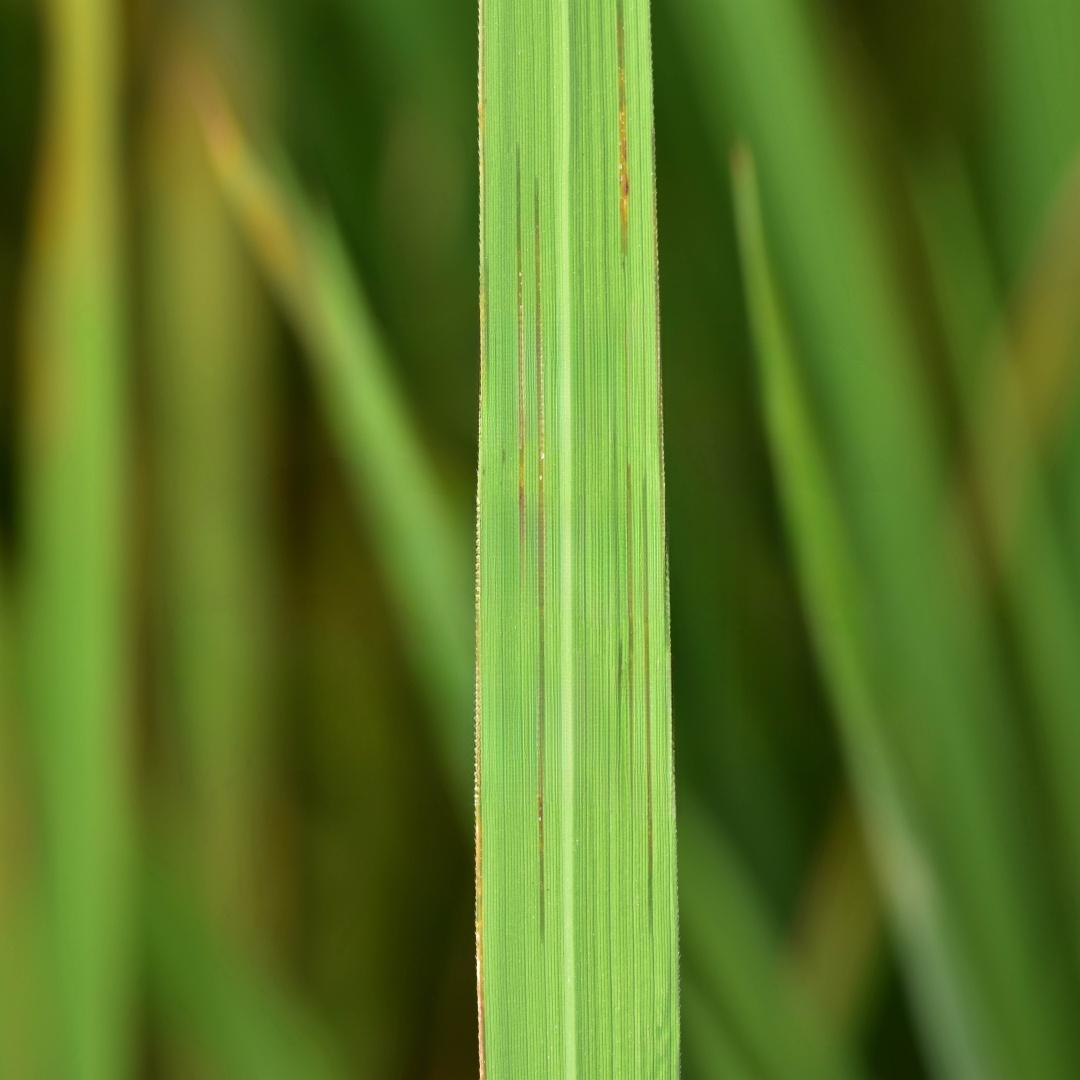BLS: (475, 0, 487, 1079), (533, 179, 546, 945), (641, 470, 654, 977), (516, 145, 527, 562), (616, 0, 630, 273), (627, 454, 635, 765), (618, 638, 623, 764)
LEAF: (474, 0, 680, 1079)
